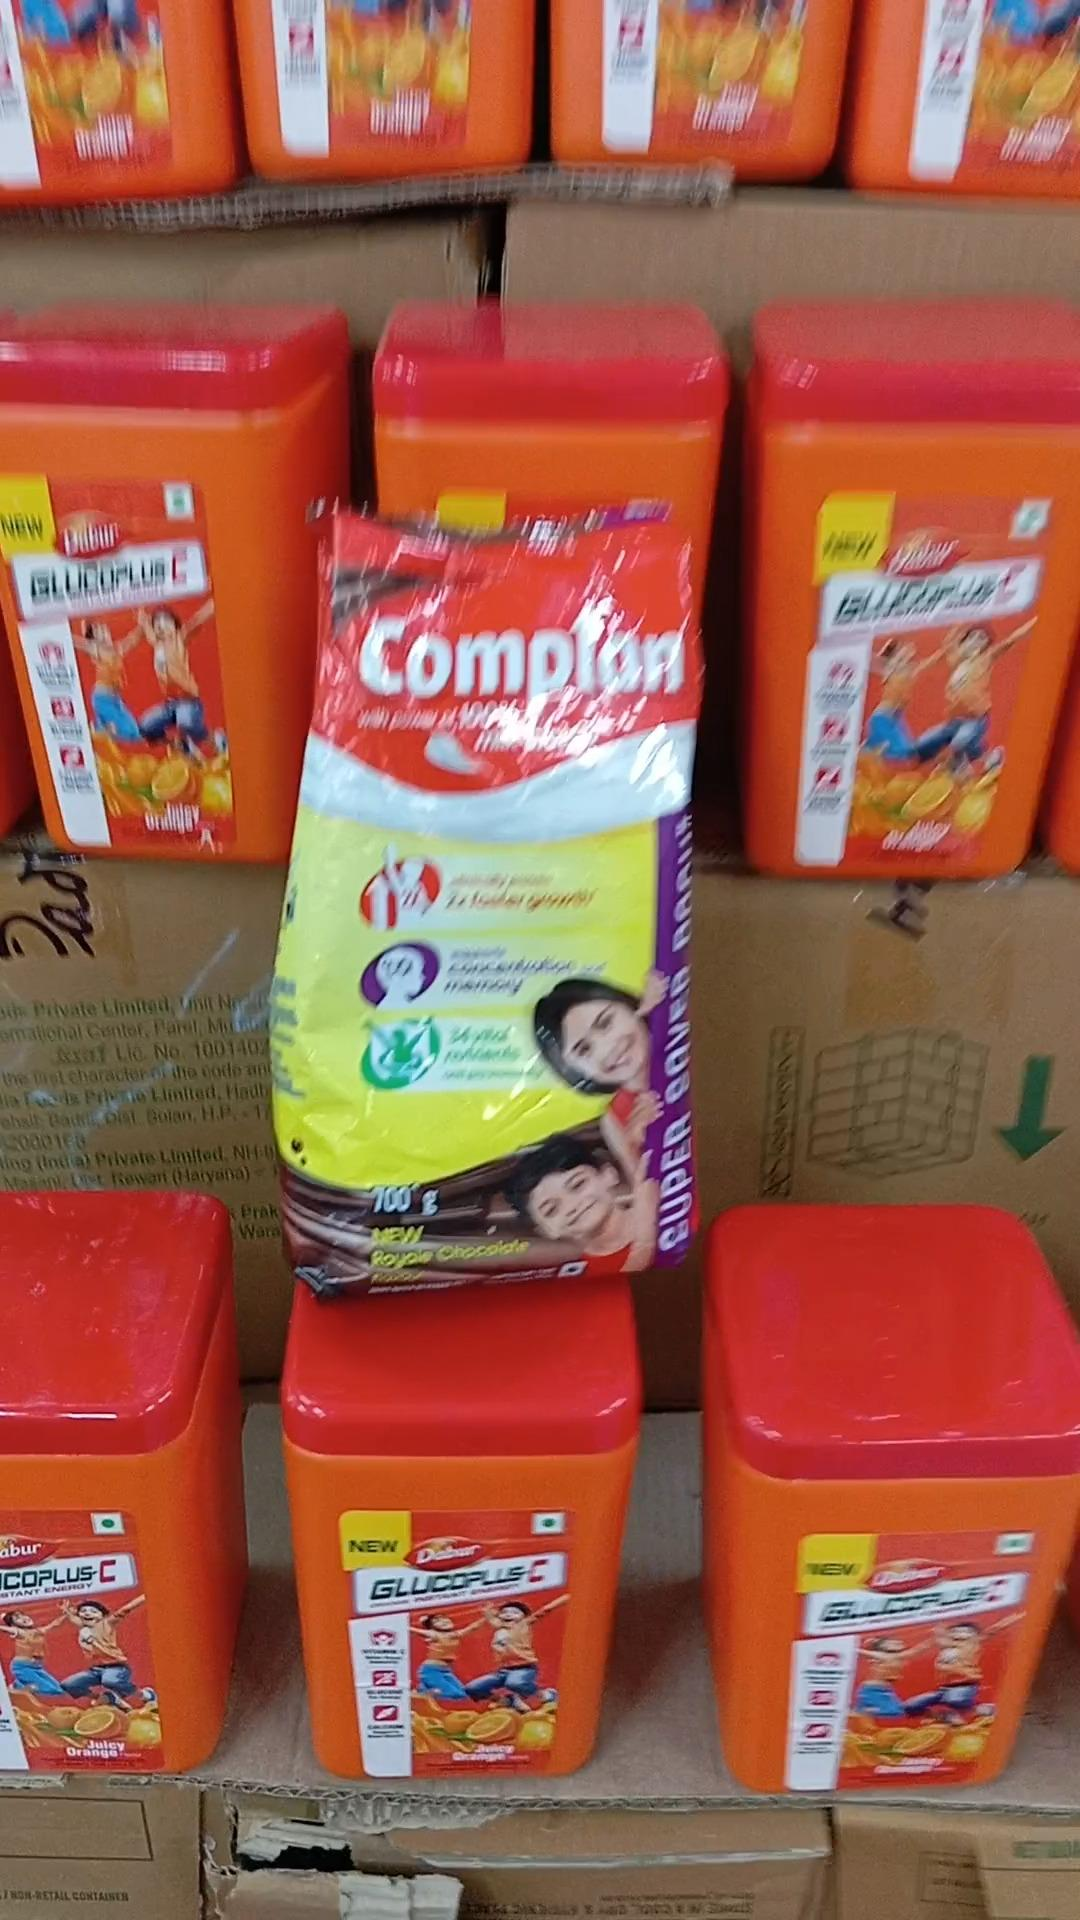COMPLAN_RC_POUCH_700_GMS_12: (299, 527, 692, 1299)
